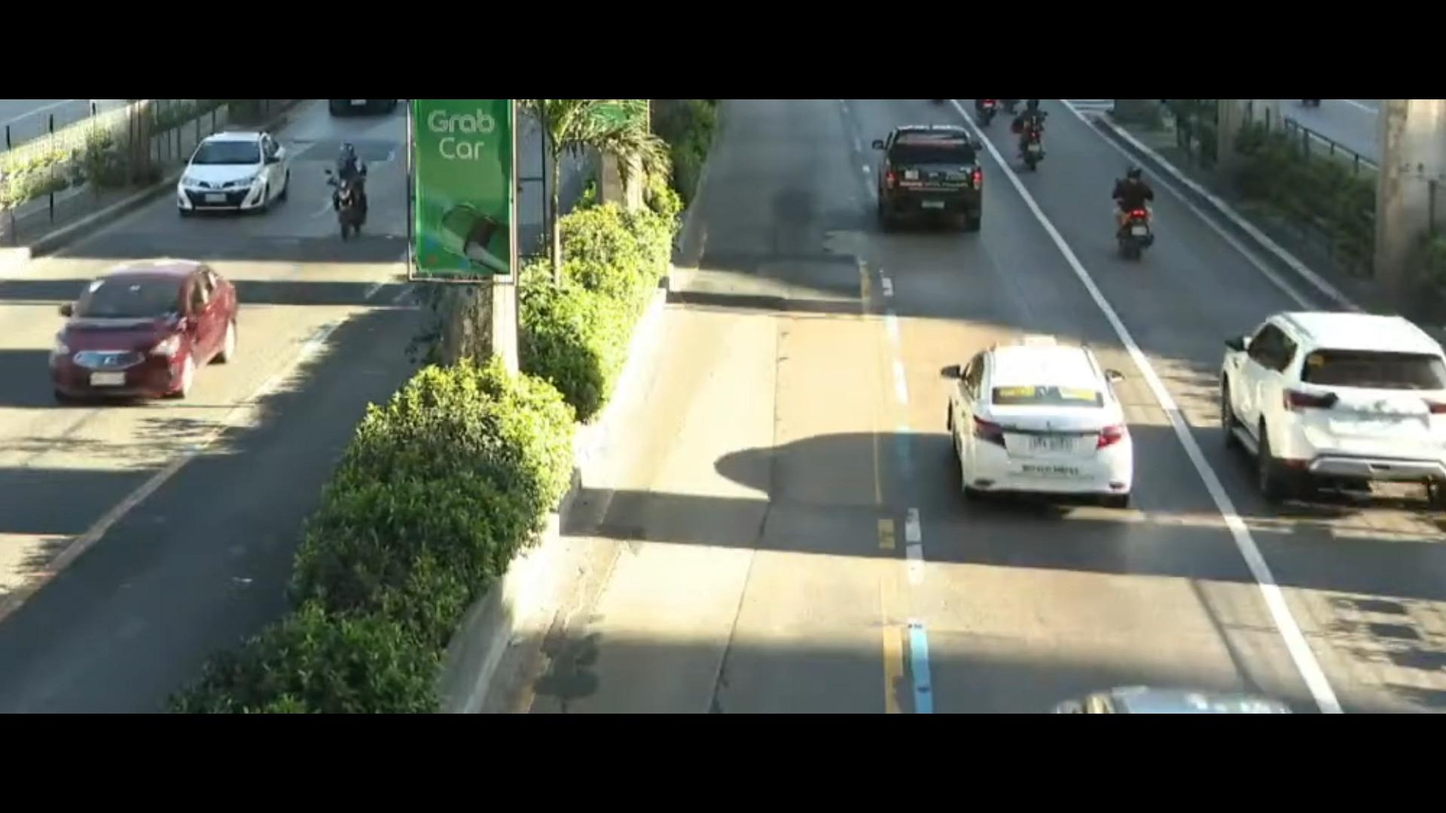Motorcycle: (1094, 164, 1181, 279), (319, 142, 384, 249), (1003, 98, 1068, 178)
SUV: (1216, 310, 1446, 524), (862, 119, 1006, 243)
Sedan: (926, 311, 1134, 523), (40, 254, 255, 419), (173, 119, 305, 221)
